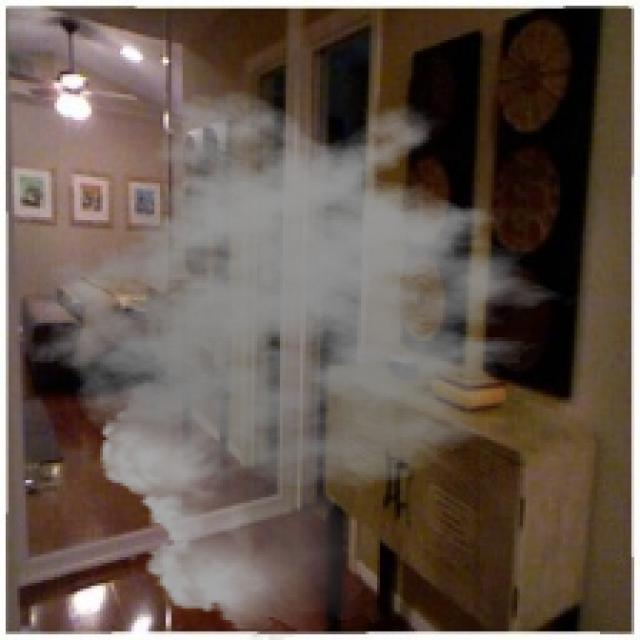smoke: (29, 89, 588, 637)
